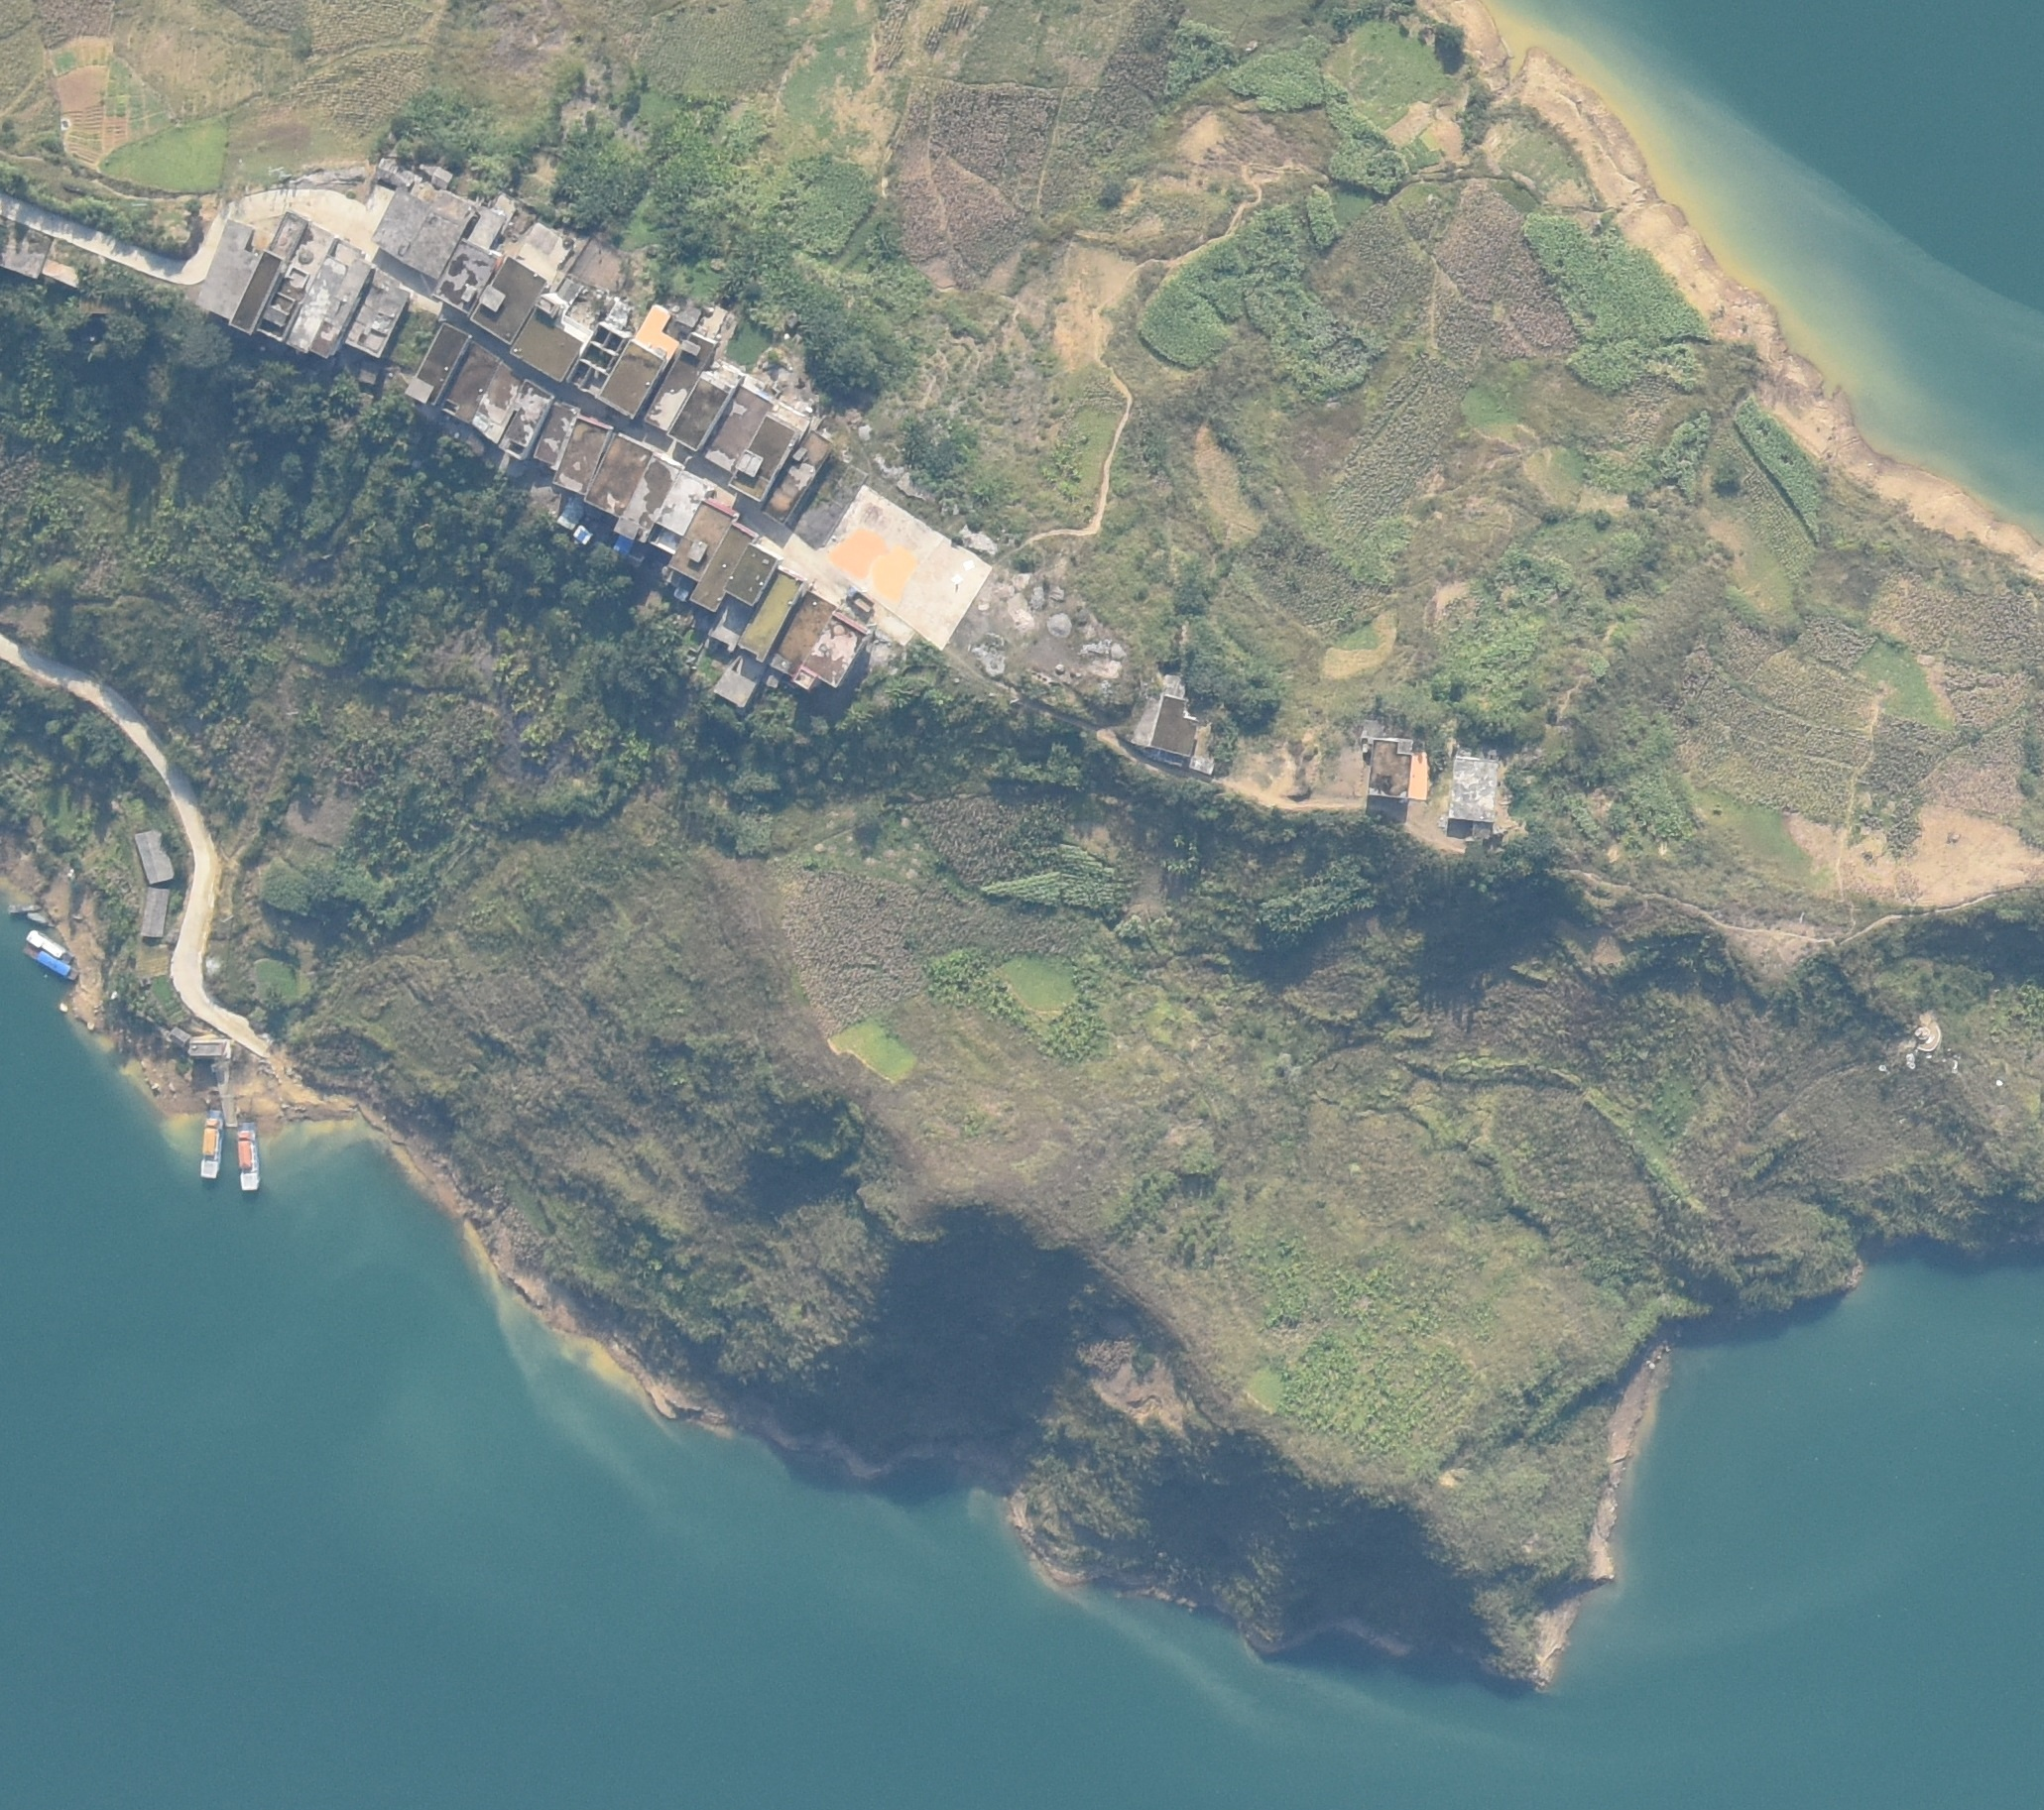building: (197, 211, 370, 356), (669, 500, 776, 613), (585, 432, 680, 540), (510, 274, 603, 384), (597, 304, 678, 421), (643, 309, 716, 433), (374, 185, 473, 276), (440, 199, 515, 316), (442, 341, 519, 446), (758, 433, 833, 524), (470, 259, 543, 349), (701, 381, 772, 473), (669, 363, 742, 452), (729, 412, 797, 501), (346, 269, 409, 358), (797, 610, 867, 688), (765, 594, 832, 676), (737, 570, 800, 655), (648, 463, 708, 552), (1139, 678, 1197, 762), (407, 327, 466, 407), (500, 379, 552, 459), (554, 416, 608, 493), (1361, 736, 1412, 802), (1452, 755, 1499, 823), (715, 652, 765, 709), (2, 222, 47, 280), (535, 400, 575, 465), (133, 830, 176, 882), (708, 598, 749, 650), (561, 498, 597, 545), (140, 886, 169, 936), (414, 155, 452, 187), (377, 155, 416, 185), (42, 257, 79, 287), (185, 1040, 234, 1060), (355, 358, 379, 384), (168, 1026, 189, 1048)
prefabricated-house: (610, 535, 632, 559)
ship: (24, 943, 82, 982), (26, 928, 73, 964), (236, 1120, 259, 1193), (199, 1108, 222, 1179), (26, 910, 56, 926), (7, 903, 42, 912)
vehicle: (844, 585, 875, 613)
